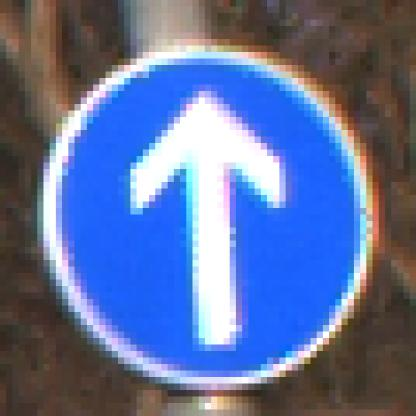AheadOnly: (38, 34, 380, 378)
